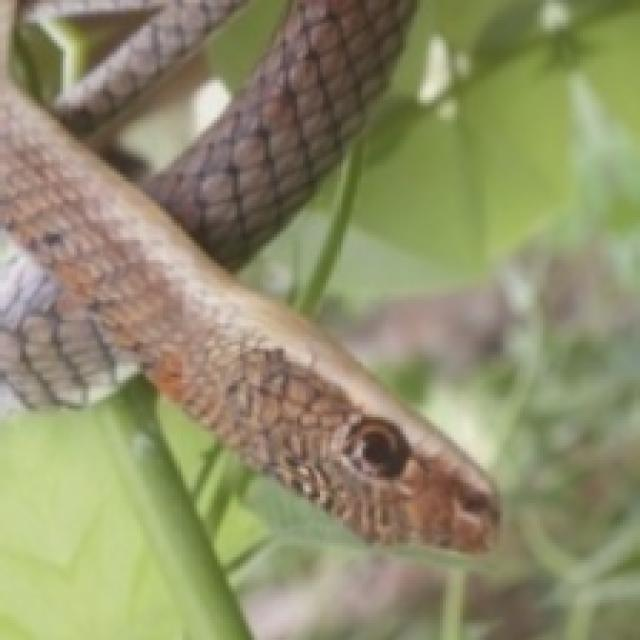paradise tree snake: (0, 0, 497, 549)
